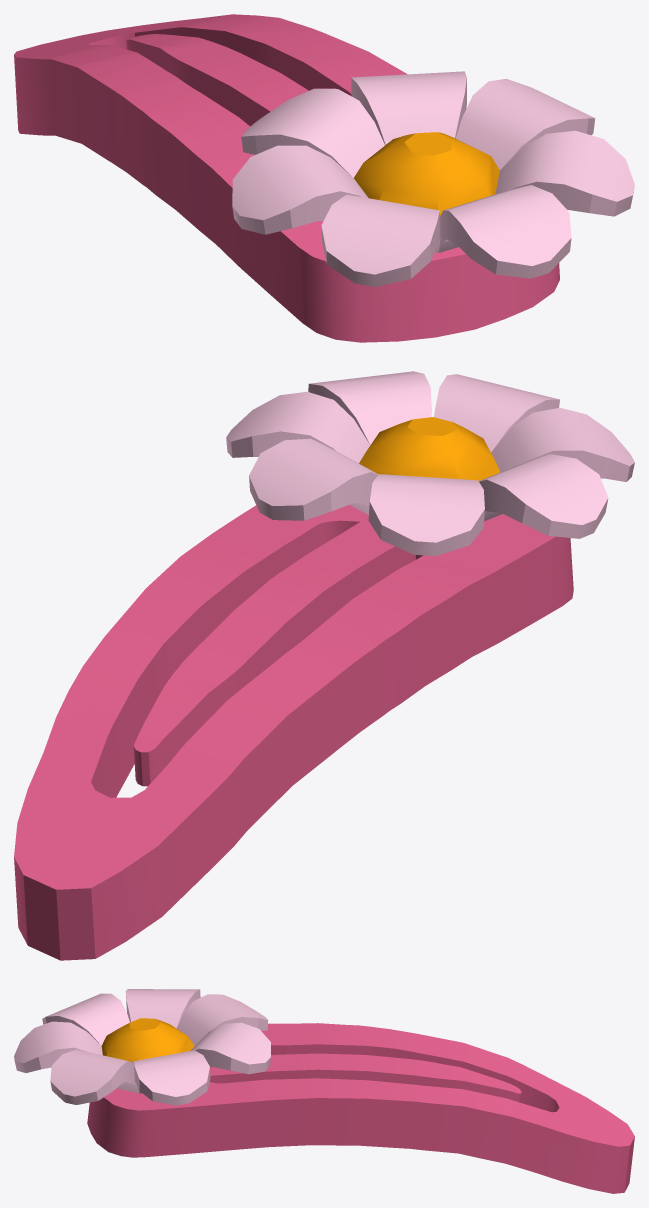
Rendered from Clasp.gltf.
3 views of the same model, one above another, from view 1: azimuth 30°, elevation 25°; view 2: azimuth 150°, elevation 25°; view 3: azimuth 270°, elevation 25° (orthographic). The views are drawn at different scales.
Visible parts, largest first — view 1: Clasp; view 2: Clasp; view 3: Clasp.
Boxes of the visible parts, x1,y1,x2,y2 form: Clasp: (14,14,634,342); Clasp: (14,371,634,960); Clasp: (14,989,634,1193).
Size of the model in its own units: 0.5025 by 0.3495 by 1.2.
1 material, 1 textured.
